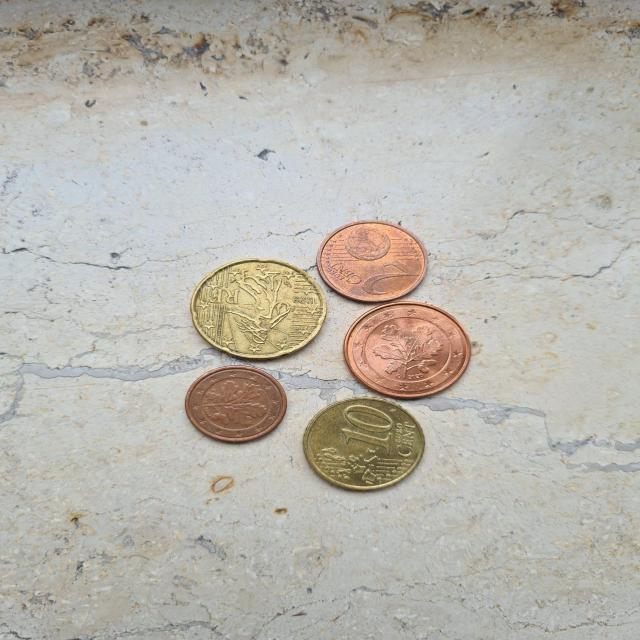10c: (290, 387, 448, 498)
1c: (166, 364, 297, 450)
20c: (184, 253, 336, 365)
2c: (308, 217, 436, 307)
5c: (330, 294, 487, 408)
